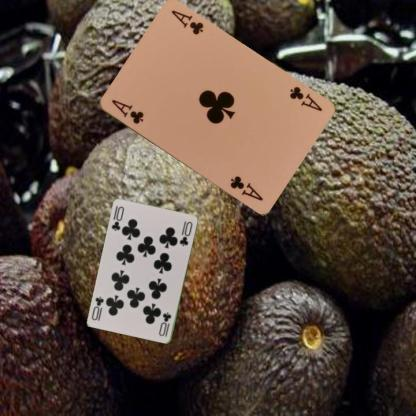10c: (156, 310, 172, 338), (110, 204, 126, 232)
Ac: (286, 84, 324, 113), (109, 96, 145, 126)
